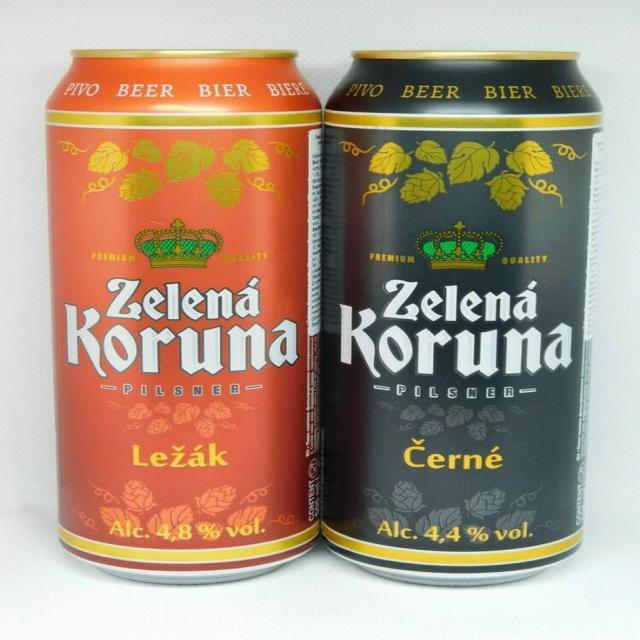can: (321, 42, 607, 594), (44, 36, 324, 588)
